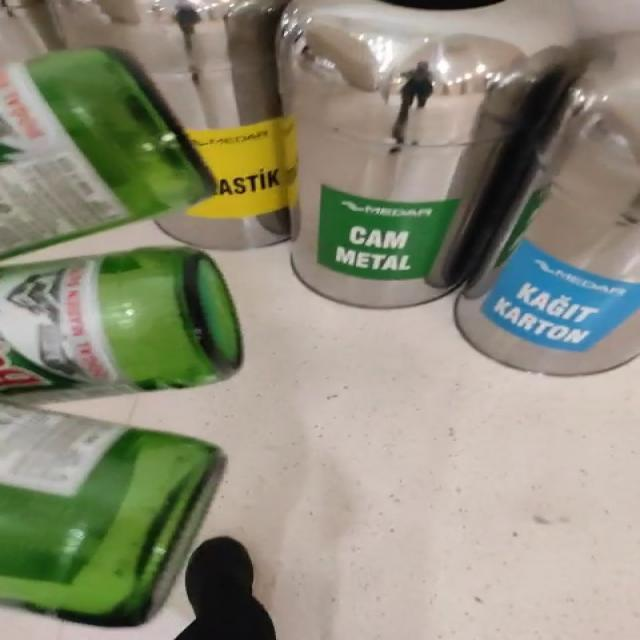Bin: (277, 0, 575, 308)
Glass: (0, 247, 241, 627), (1, 49, 211, 256)
